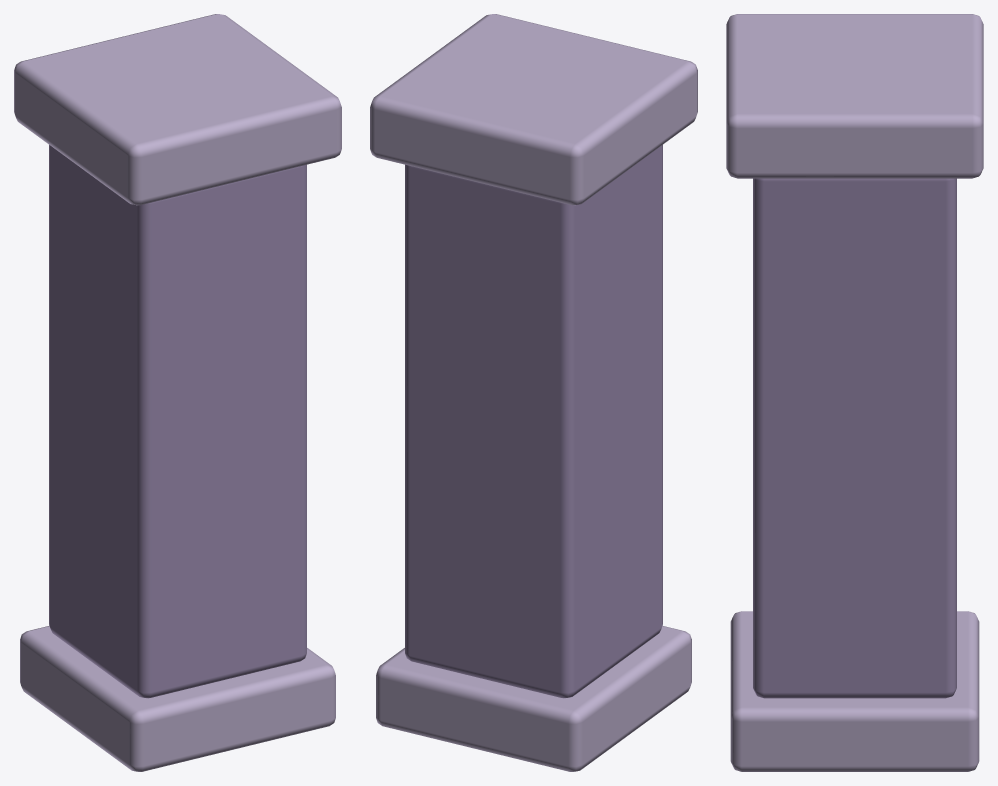
File: pilar.glb
The picture shows the model from 3 angles, left to right: view 1: azimuth 30°, elevation 25°; view 2: azimuth 150°, elevation 25°; view 3: azimuth 270°, elevation 25°; orthographic projection. The views are drawn at different scales.
Visible parts, largest first — view 1: Pilar.001; view 2: Pilar.001; view 3: Pilar.001.
Part boxes in pixels (<box>): Pilar.001: <box>14,14,341,771</box>; Pilar.001: <box>370,14,697,771</box>; Pilar.001: <box>726,14,983,771</box>.
Size of the model in its own units: 0.58 by 1.64 by 0.58.
